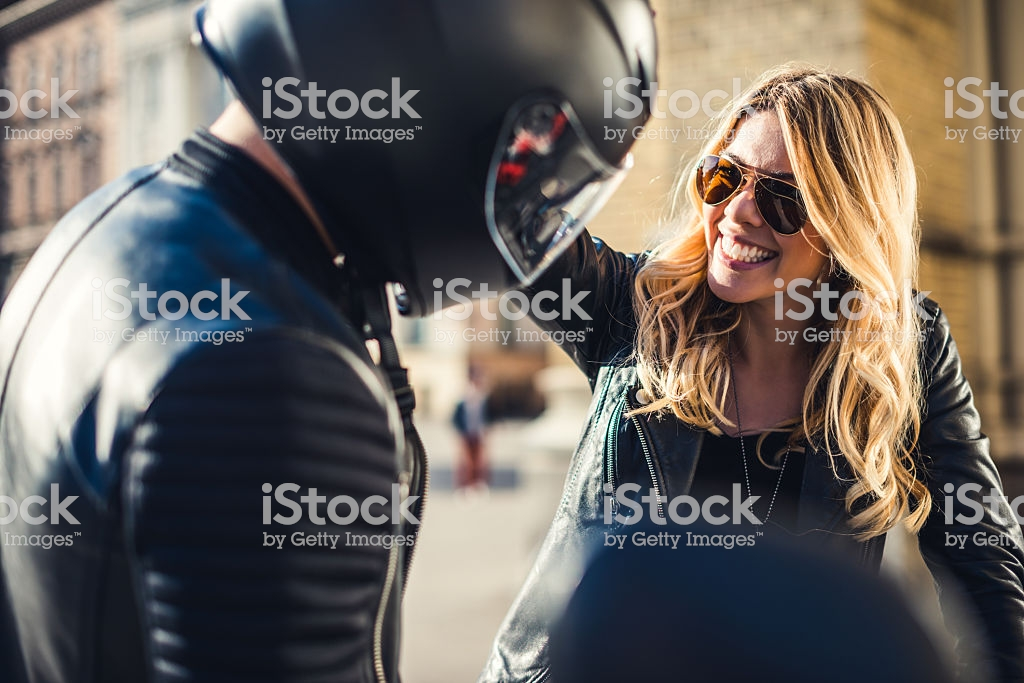helmet: (208, 4, 647, 275)
